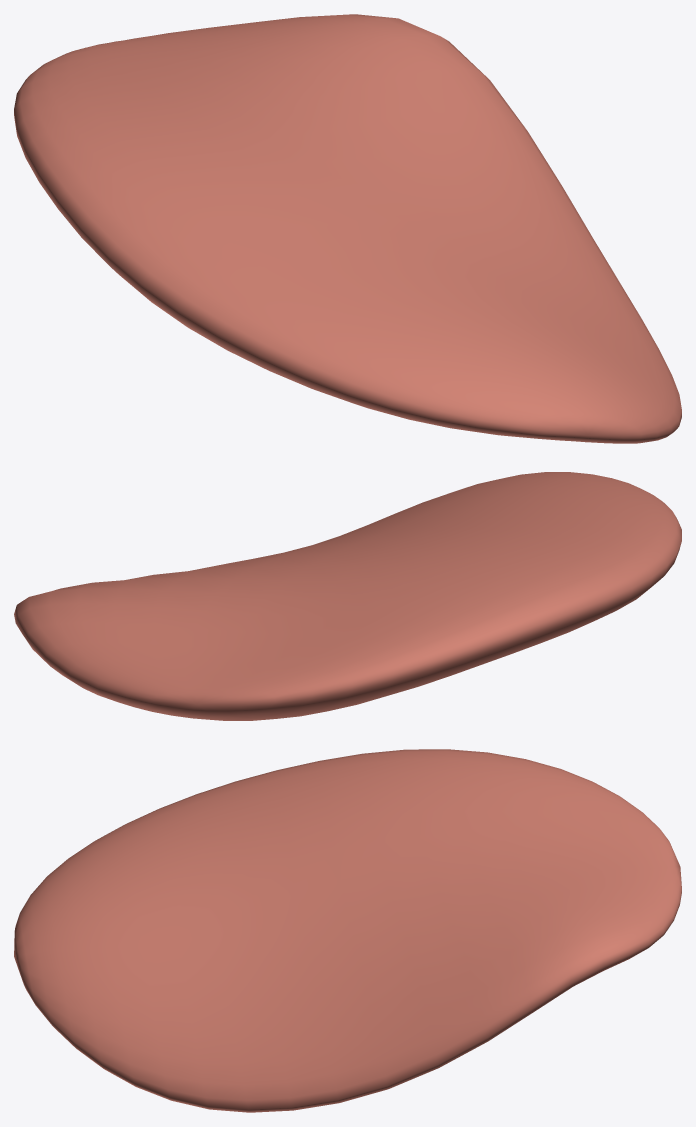
3 views of the same model, one above another, from view 1: azimuth 30°, elevation 25°; view 2: azimuth 150°, elevation 25°; view 3: azimuth 270°, elevation 25° (orthographic). The views are drawn at different scales.
Visible parts, largest first — view 1: 右侧髂耻囊; view 2: 右侧髂耻囊; view 3: 右侧髂耻囊.
Boxes of the visible parts, x1,y1,x2,y2 form: 右侧髂耻囊: [14, 14, 681, 443]; 右侧髂耻囊: [14, 472, 681, 720]; 右侧髂耻囊: [14, 749, 681, 1112].
Size of the model in its own units: 0.0334 by 0.0146 by 0.0465.
